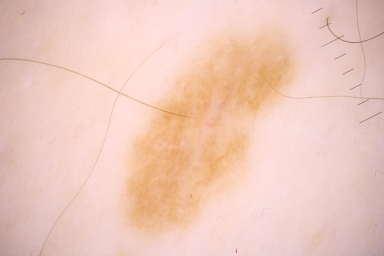nevus: (127, 38, 290, 230)
